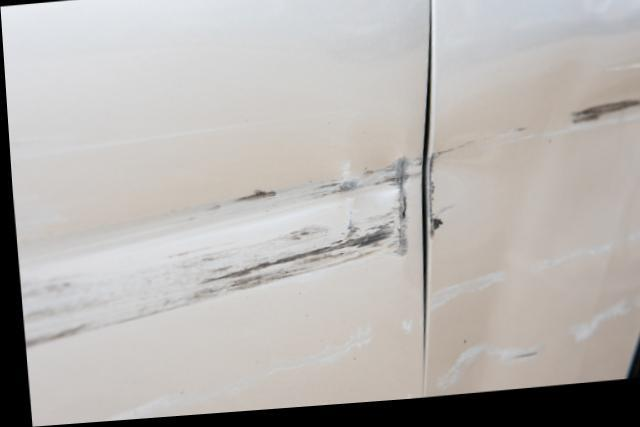dent: (429, 66, 582, 382)
scratch: (12, 159, 414, 352), (79, 327, 370, 424), (543, 233, 640, 279), (556, 298, 640, 351), (579, 101, 640, 140)
